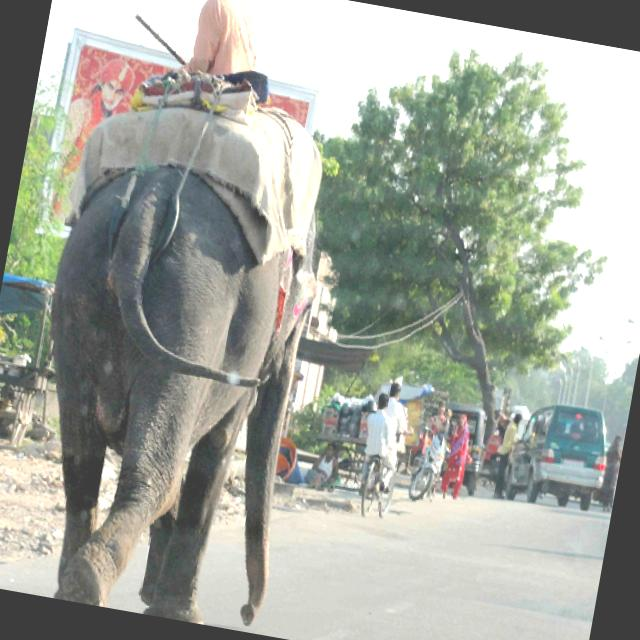Vehicle: (435, 384, 616, 520), (406, 425, 454, 508)
